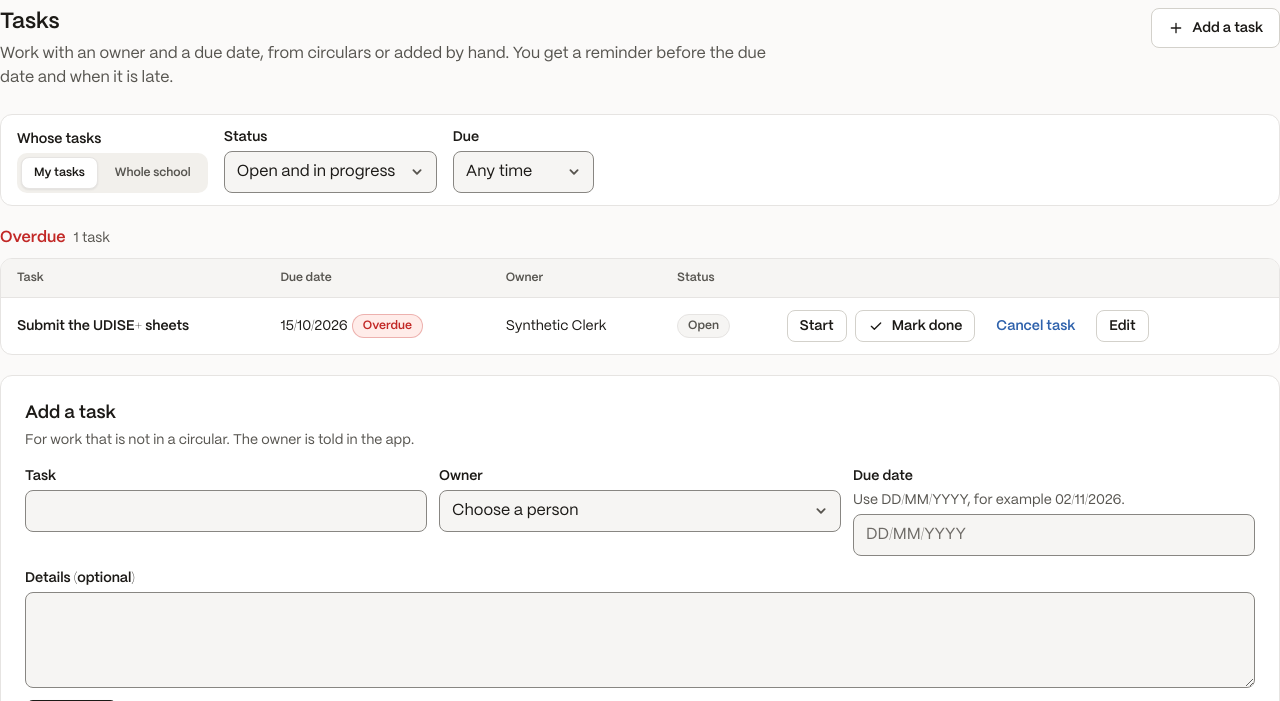
it: edit a task (US-1603, FR-TASK-003) › someone else's change (412) says so and reloads the list
The image size is (1280, 701).
Click the button "Edit": (1122, 326) [1096, 310, 1148, 342]
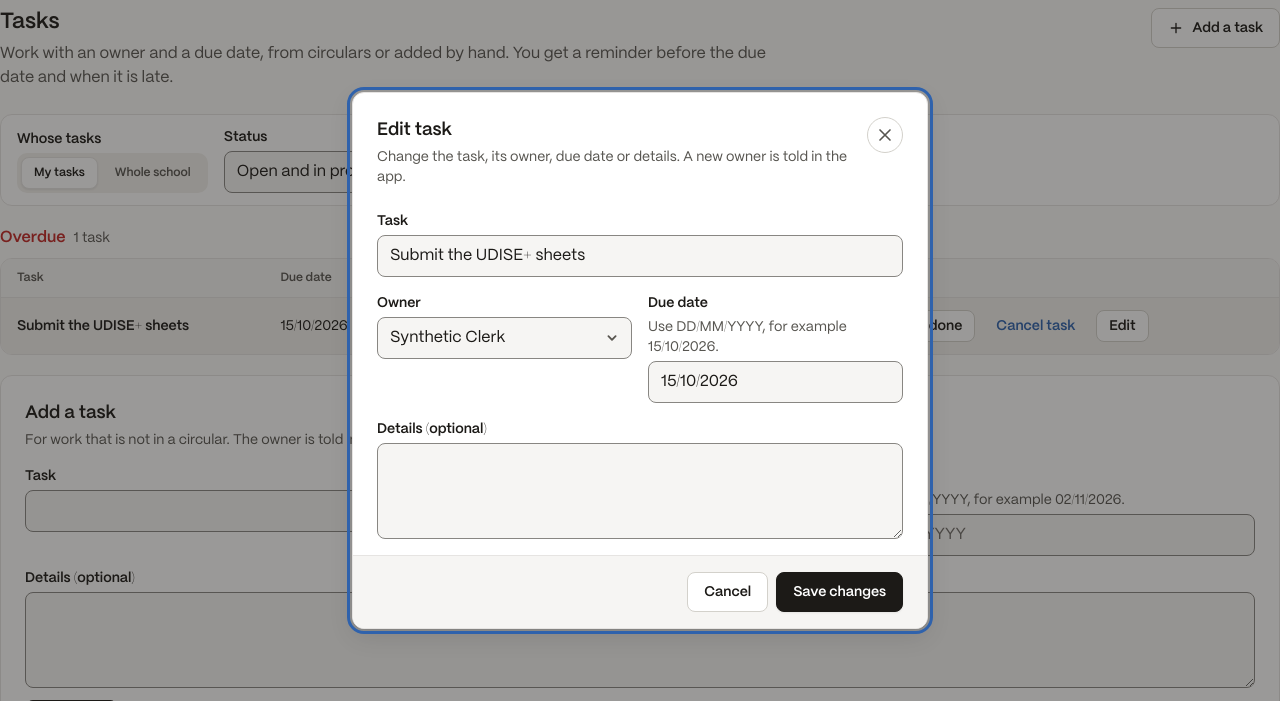
Replace the text in the field labelled "Task" with "New title": (640, 256) [377, 234, 903, 276]
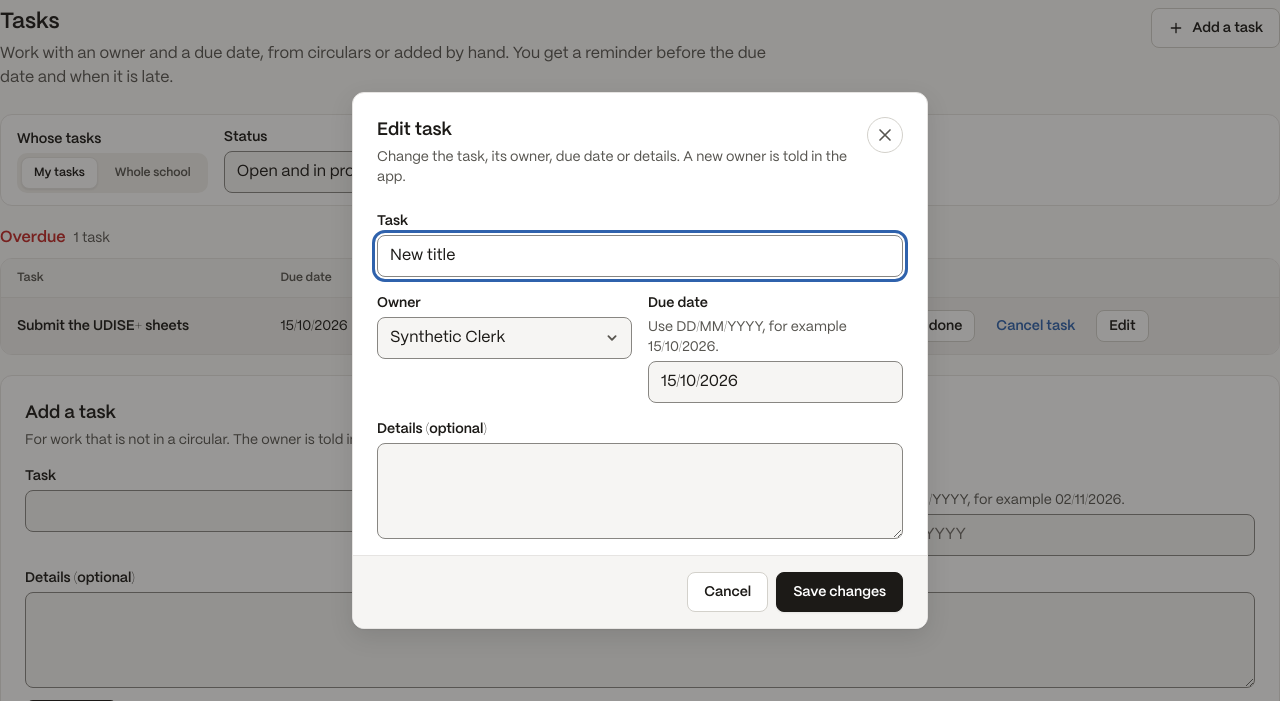
Click the button "Save changes": (840, 592) [776, 572, 903, 612]
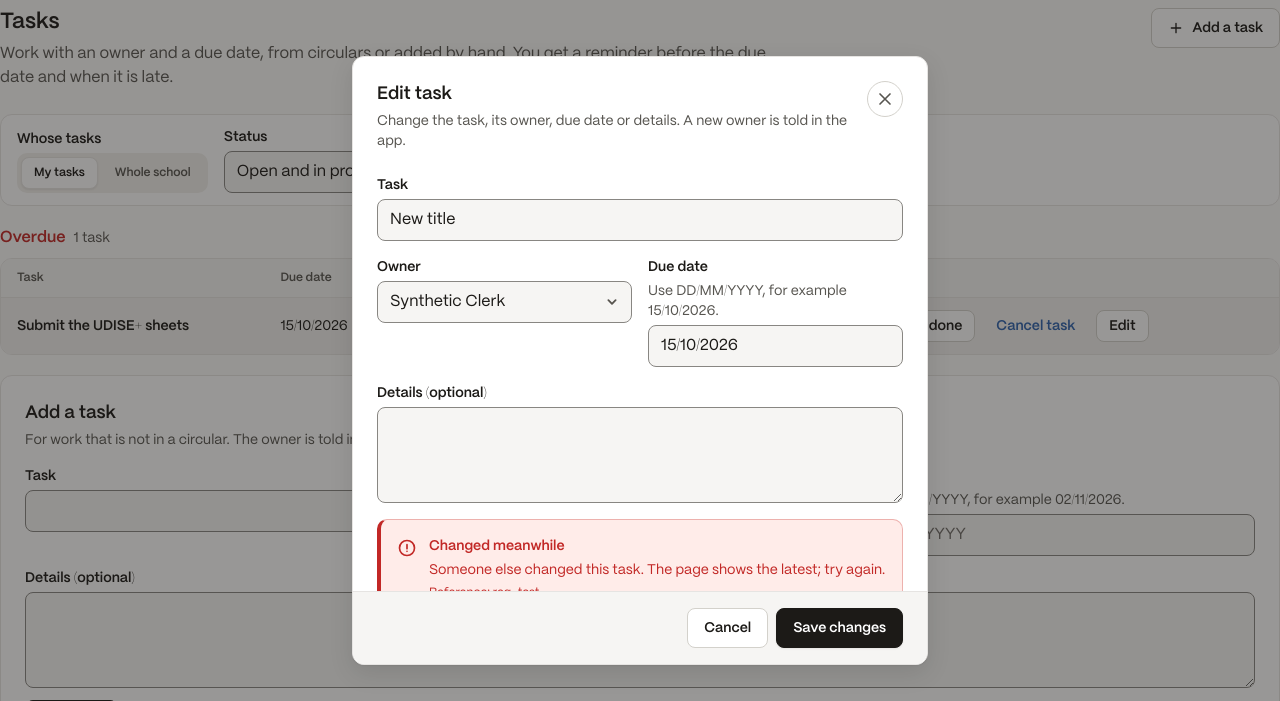
Expected: the text "Changed meanwhile" is shown, [429, 538, 565, 552]
